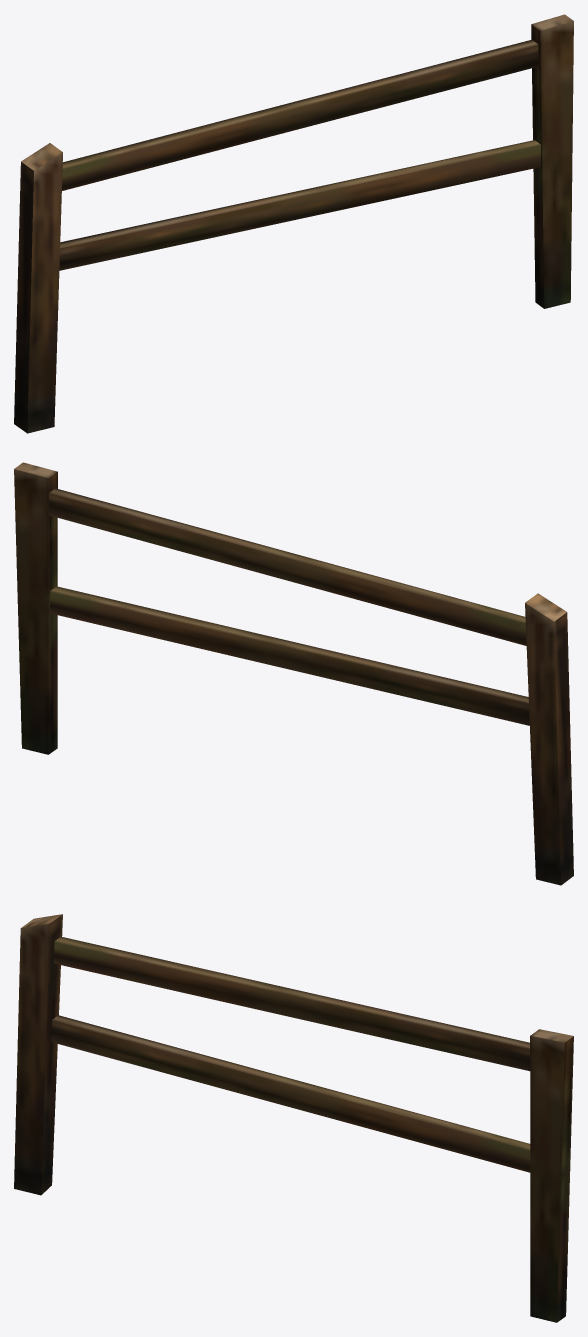
File: general_obj_fence01.glb
3 renders of one model, top to bottom at view 1: azimuth 30°, elevation 25°; view 2: azimuth 150°, elevation 25°; view 3: azimuth 330°, elevation 25°, orthographic.
Visible parts, largest first — view 1: Sphere01; view 2: Sphere01; view 3: Sphere01.
Boxes of the visible parts, x1,y1,x2,y2 form: Sphere01: (14,14,573,433); Sphere01: (14,462,573,885); Sphere01: (14,914,573,1322).
Bounding box in the file's own units: 4.44 × 2.16 × 0.2065.
Materials: 1 (1 with a texture image).
